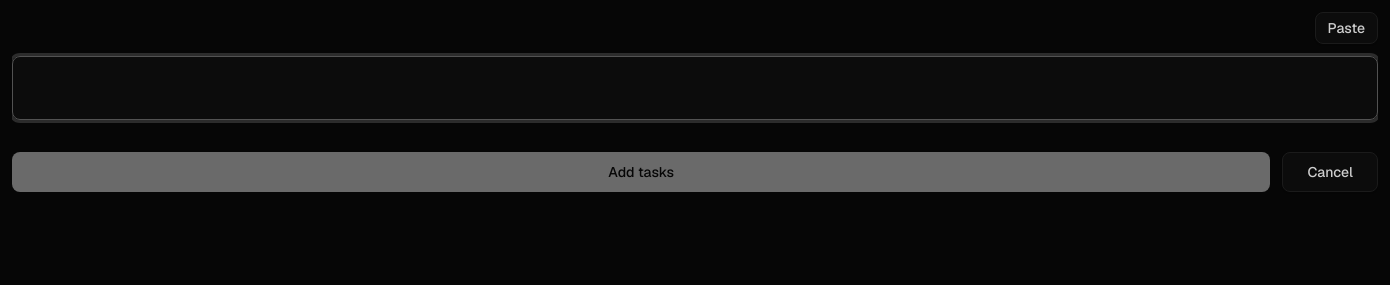
Test: CaptureForm › handles loading state during submission
The image size is (1390, 285).
Type "Test task" into the text box at (695, 88), box [12,56,1378,120]
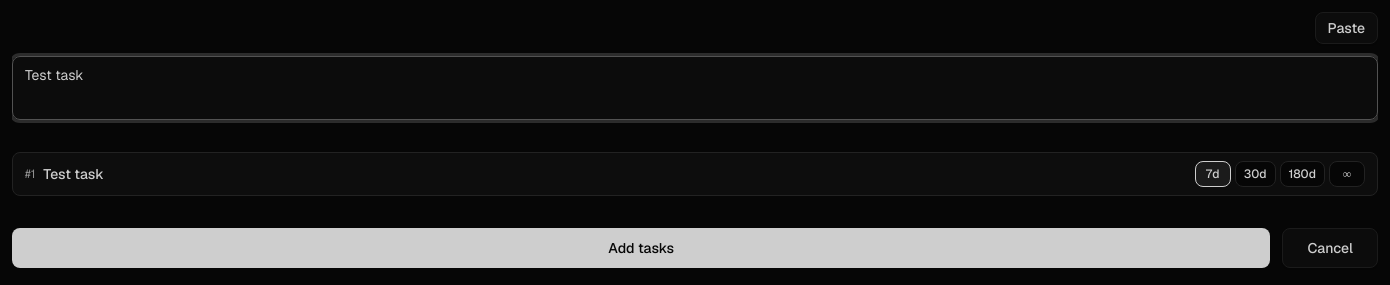
Submit the form "Paste #1 Test task 7d 30d 180d ∞ Add tasks Cancel"
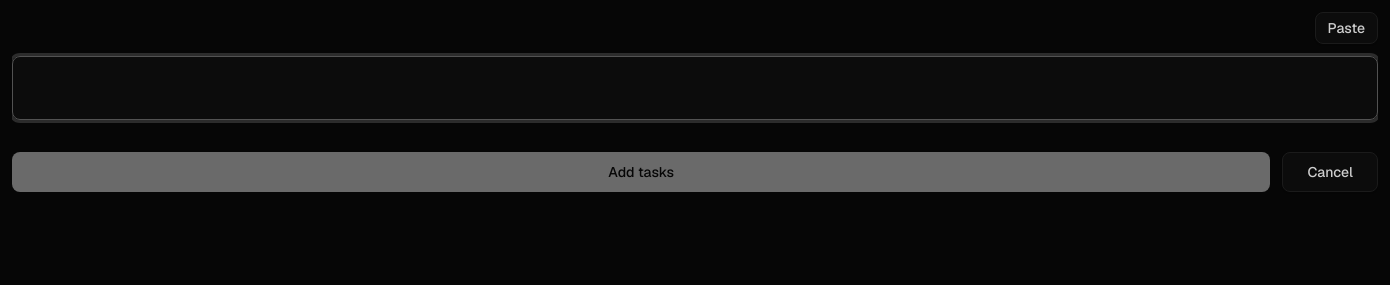
expect the button named "creating" is disabled: met, box [12,152,1270,192]
